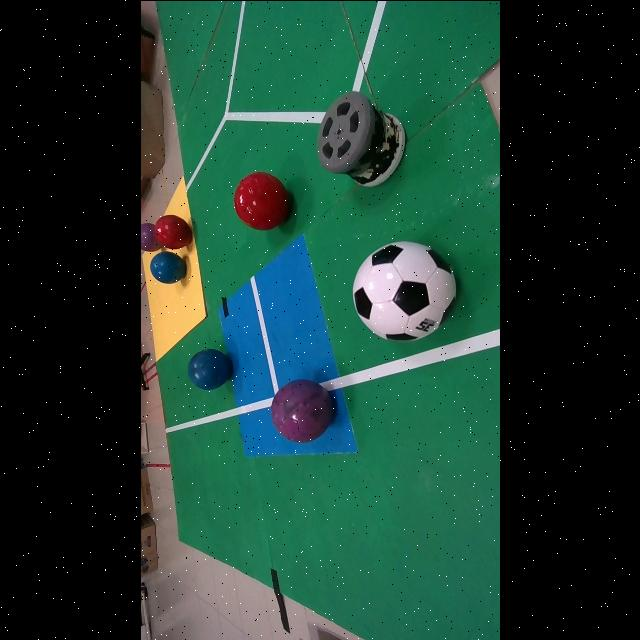B: (187, 348, 232, 390), (149, 251, 185, 283)
P: (270, 378, 332, 442), (140, 222, 162, 251)
R: (233, 171, 289, 230), (153, 215, 191, 248)
